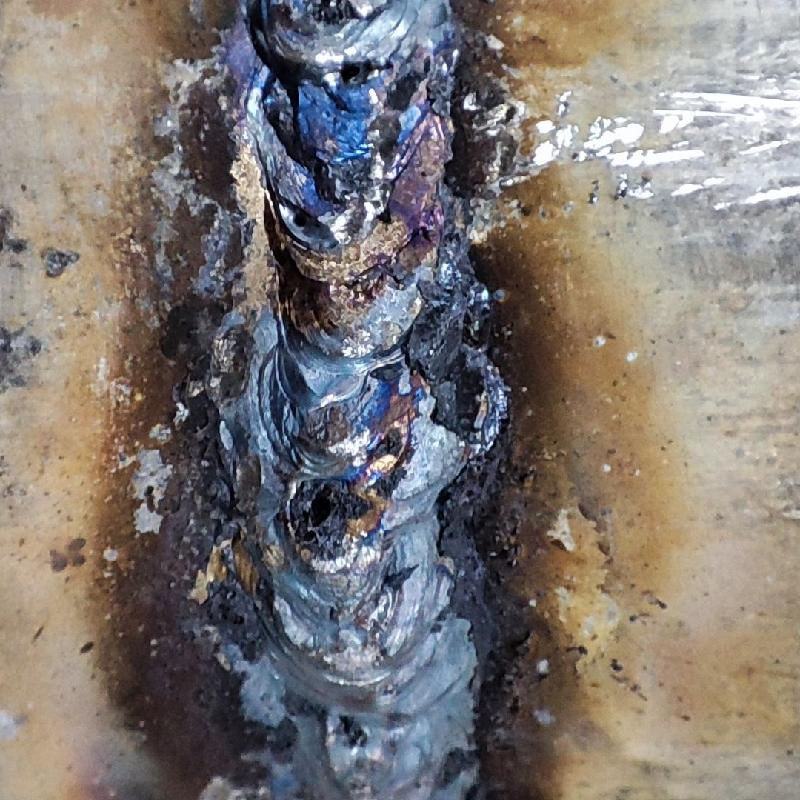Surface_pores: (288, 478, 348, 544), (280, 197, 323, 243), (330, 53, 372, 99)
